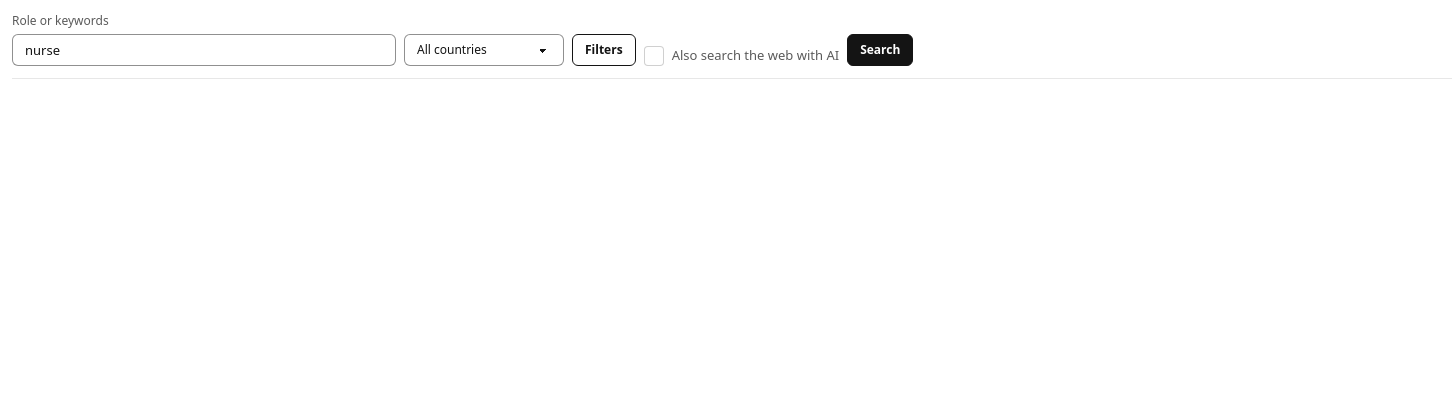
Scenario: SearchFilterBar Filters popover › wires aria-expanded and aria-controls and gives every control a name
Click the button "Filters". click: (604,50)
box: [572, 34, 636, 66]
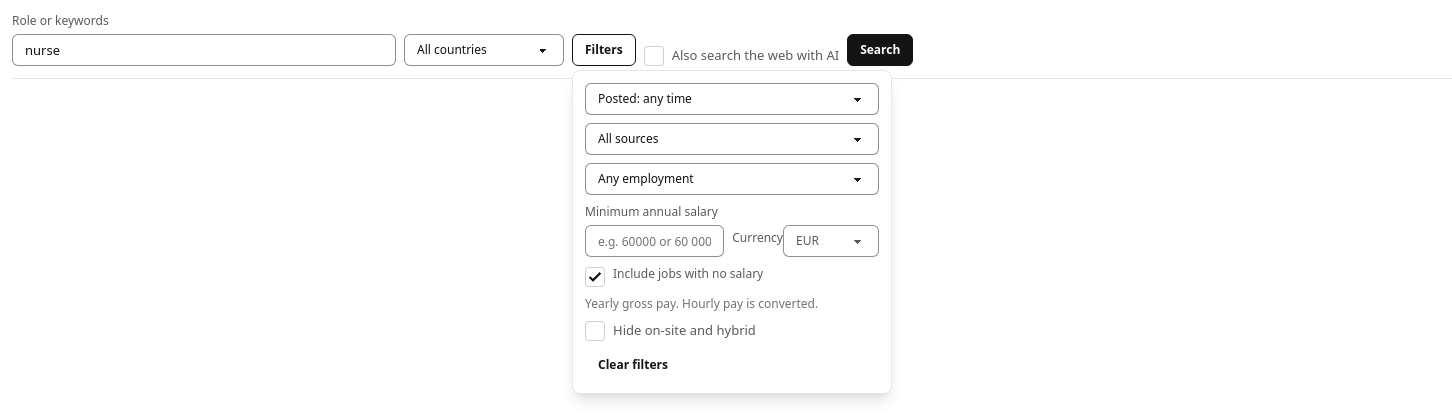
Expected: the dropdown named "Posted within" is shown, [585, 83, 879, 115]
Expected: the dropdown named "Job source" is shown, [585, 123, 879, 155]
Expected: the dropdown named "Employment type" is shown, [585, 163, 879, 195]
